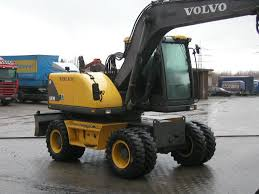excavator: (36, 0, 255, 176)
